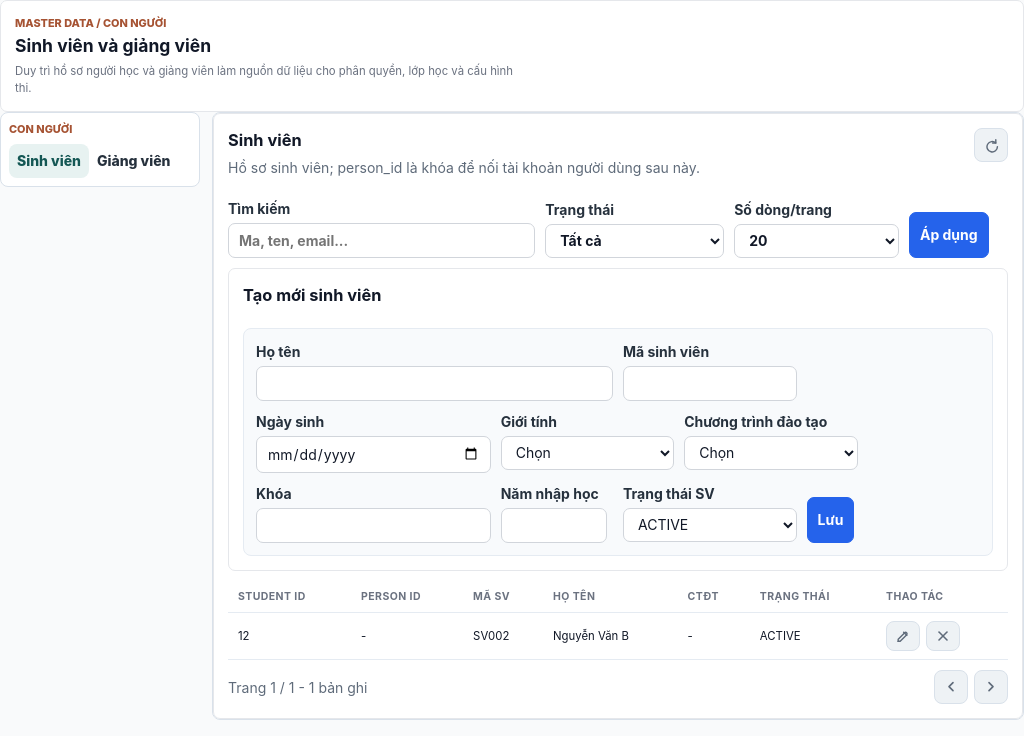
Test case: Phase 2A.5 master data contract and UX hardening › people edit appears for students, pre-fills values, prevents duplicate PATCH, and refreshes after success
Click the button named "Sửa" at (903, 636), box [886, 621, 920, 651]
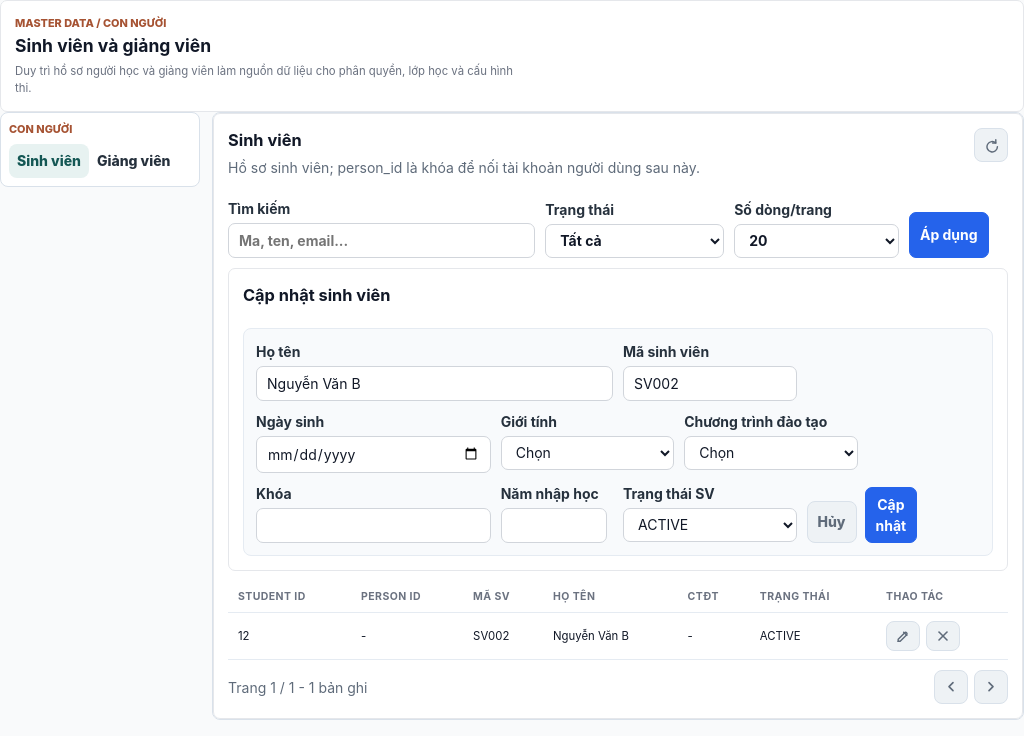
Check: the heading "Cập nhật sinh viên" is shown, box [243, 283, 390, 308]
Check: the field labelled "Họ tên" holds "Nguyễn Văn B"
Check: the field labelled "Mã sinh viên" holds "SV002", box [623, 366, 796, 400]
Replace the text in the field labelled "Họ tên" with "Nguyễn Văn C" at (434, 383), box [256, 366, 613, 400]
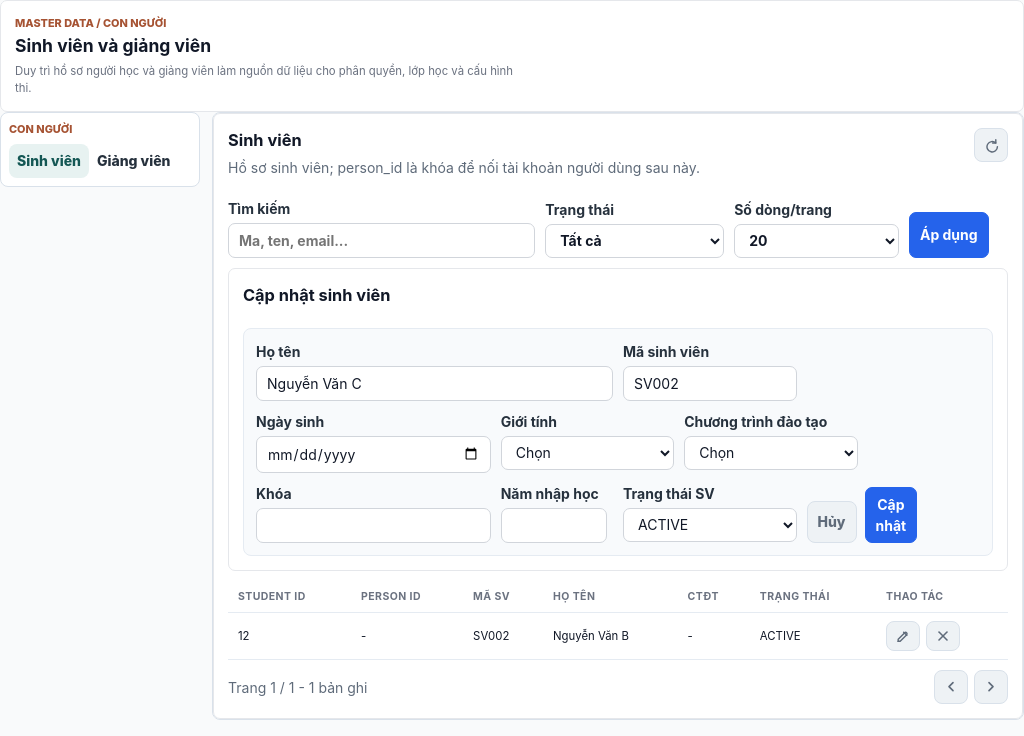
Click the button "Cập nhật" at (891, 514), box [864, 486, 917, 542]
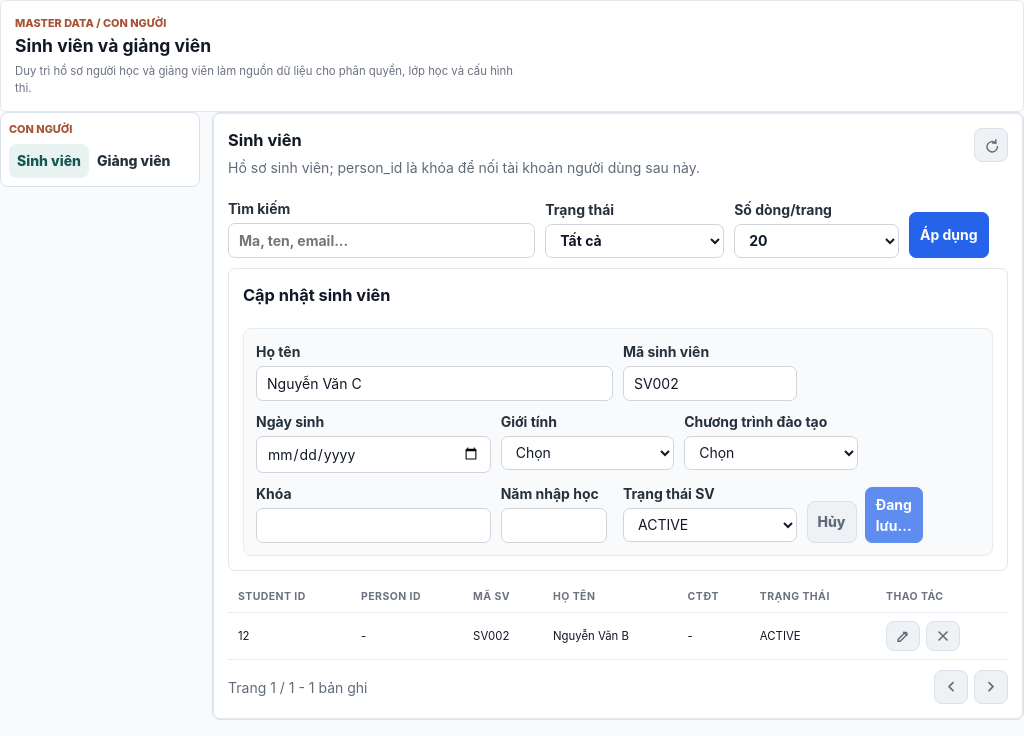
Click the button named "Cập nhật" at (894, 514), box [864, 486, 923, 542]
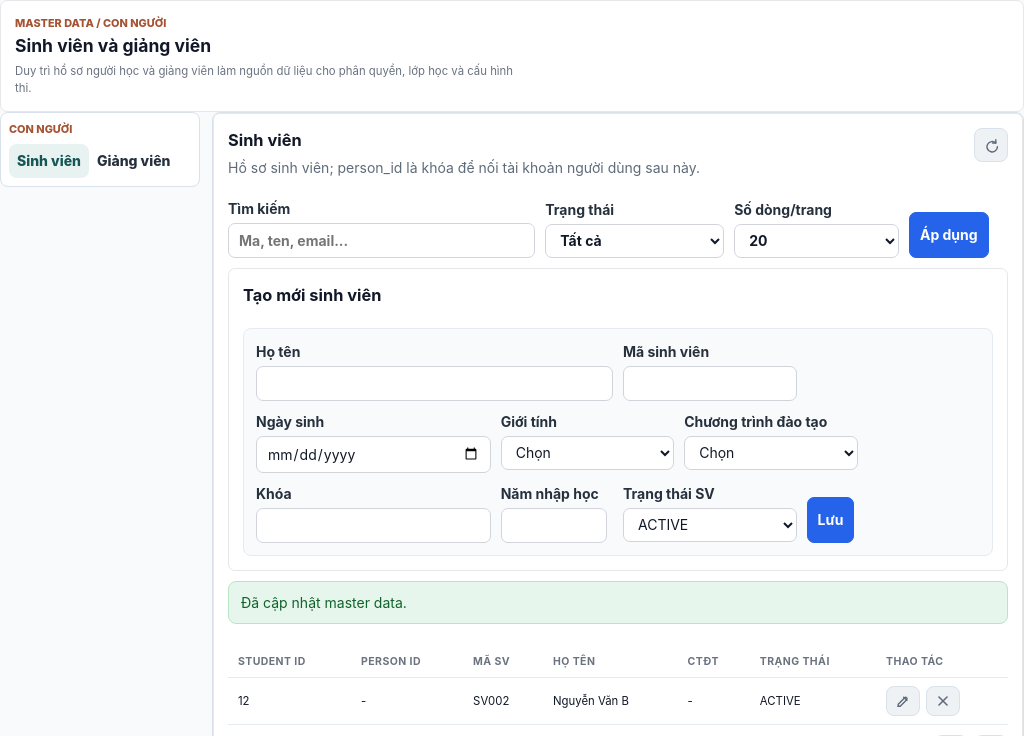
Check: the text "Đã cập nhật master data." is shown, box [228, 580, 1008, 624]
Check: the heading "Tạo mới sinh viên" is shown, box [243, 283, 381, 308]
